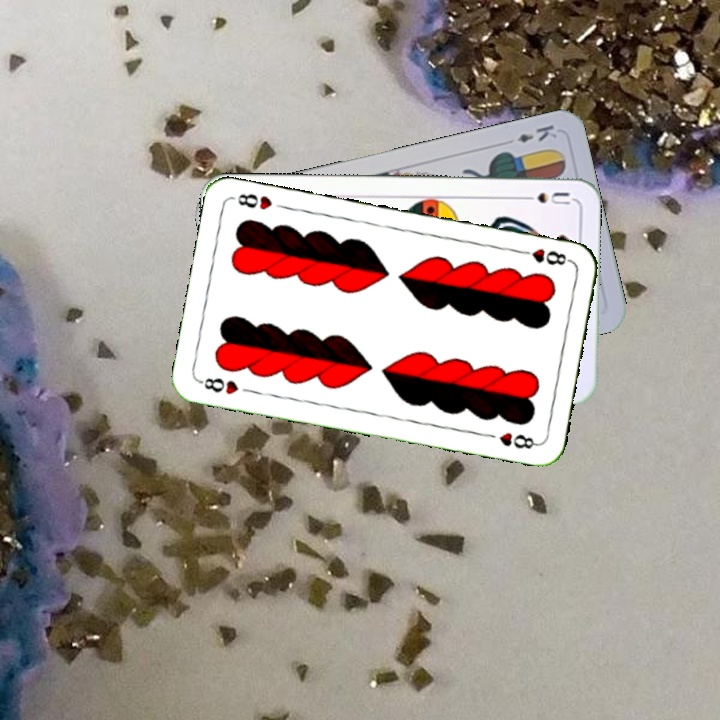EK: (513, 120, 560, 146)
H8: (514, 244, 573, 268), (195, 373, 241, 397)
SU: (515, 188, 572, 208)
